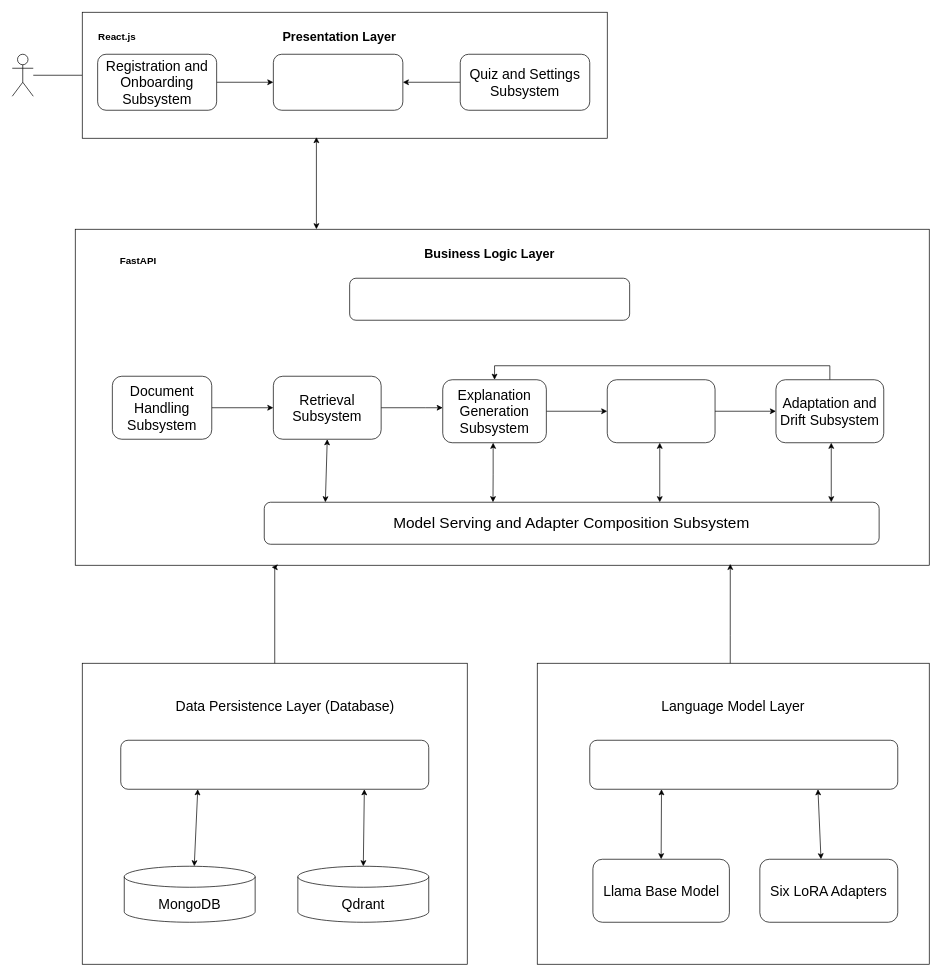
The diagram is 942 pixels wide and 977 high, and some of its shapes have lost their labels. Each missing label, with the box of its shape:
Chat Management Subsystem: (273, 54, 403, 110)
Data Access Subsystem: (120, 740, 429, 789)
Inference Subsytem: (589, 740, 898, 789)
Quiz Generation Subsystem: (607, 379, 715, 443)
User: (12, 54, 33, 96)
User Management Subsystem: (349, 278, 630, 320)
